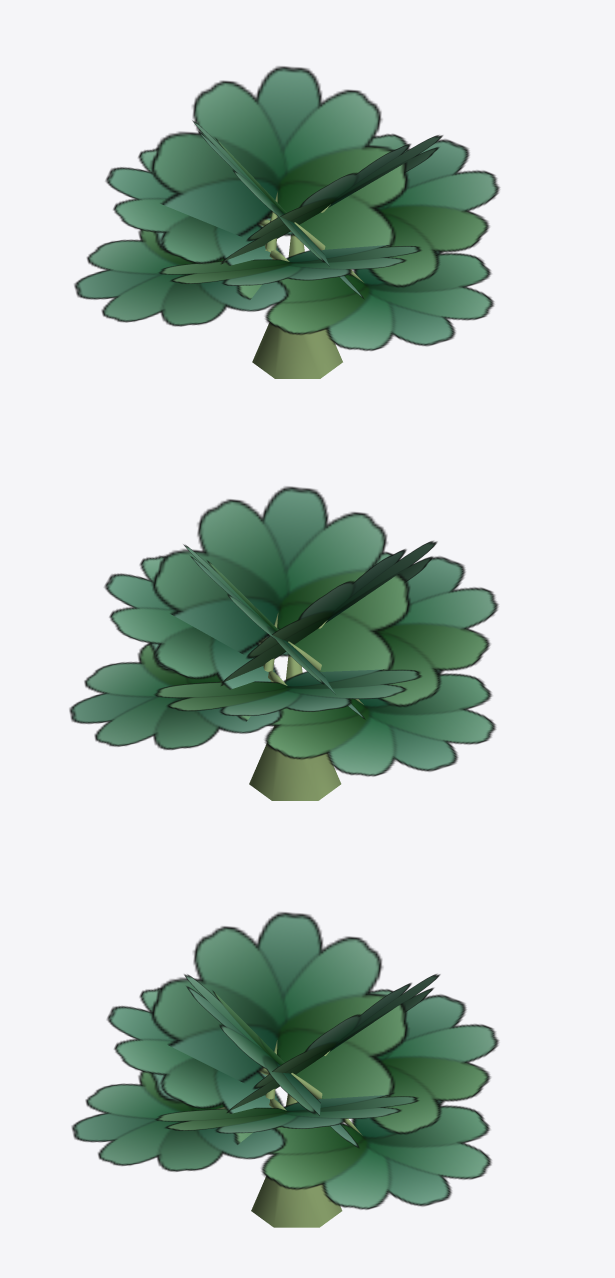
File: palecress.glb
3 views of the same model, one above another, from view 1: azimuth 30°, elevation 25°; view 2: azimuth 150°, elevation 25°; view 3: azimuth 270°, elevation 25° (orthographic).
Visible parts, largest first — view 1: leaf, bark; view 2: leaf, bark; view 3: leaf, bark.
Part boxes in pixels (<box>): leaf: <box>74,66,499,350</box>; bark: <box>221,192,363,378</box>; leaf: <box>69,486,498,776</box>; bark: <box>220,613,363,800</box>; leaf: <box>71,912,498,1209</box>; bark: <box>216,1040,362,1227</box>.
Bounding box in the file's own units: 1.76 × 0.8805 × 1.67.
2 materials, 1 textured.
